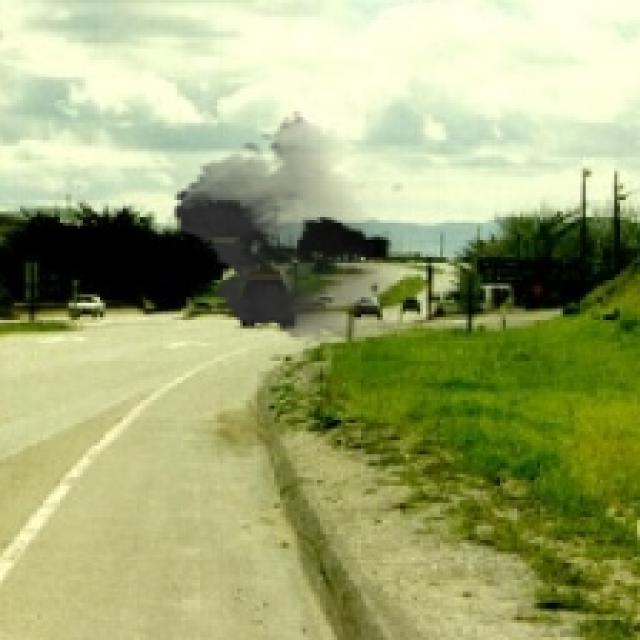smoke: (163, 108, 417, 346)
